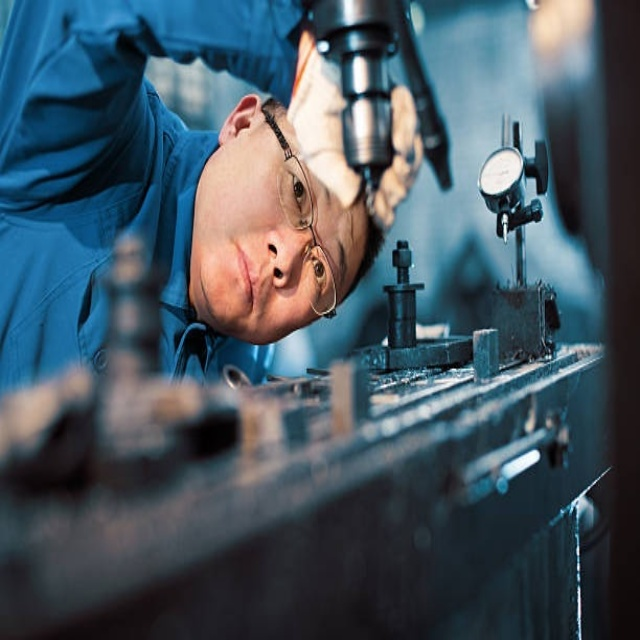Gafas: (259, 101, 336, 321)
Guantes: (288, 39, 419, 237)
Sin_mascara: (215, 216, 262, 331)
